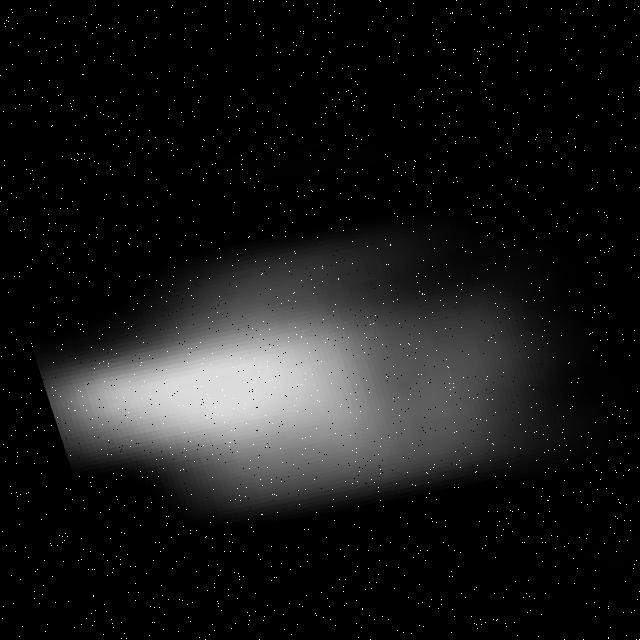person: (14, 177, 611, 568)
